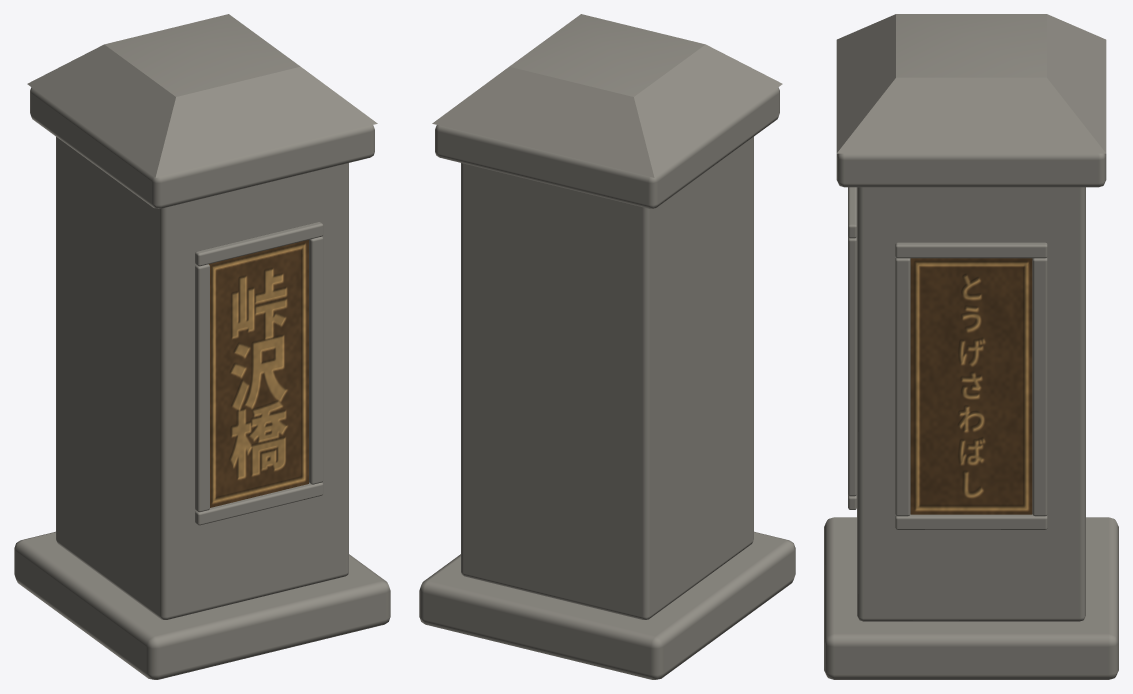
Rendered from bridge_end_post.fbx.
3 views of the same model, side by side, from view 1: azimuth 30°, elevation 25°; view 2: azimuth 150°, elevation 25°; view 3: azimuth 270°, elevation 25° (orthographic). The views are drawn at different scales.
Visible parts, largest first — view 1: bridge_end_post; view 2: bridge_end_post; view 3: bridge_end_post.
Part boxes in pixels (bbox=[...]): bridge_end_post: bbox=[14, 14, 390, 679]; bridge_end_post: bbox=[419, 14, 795, 679]; bridge_end_post: bbox=[824, 14, 1118, 679].
Bounding box in the file's own units: 0.58 × 1.27 × 0.58.
Materials: 3 (1 with a texture image).
